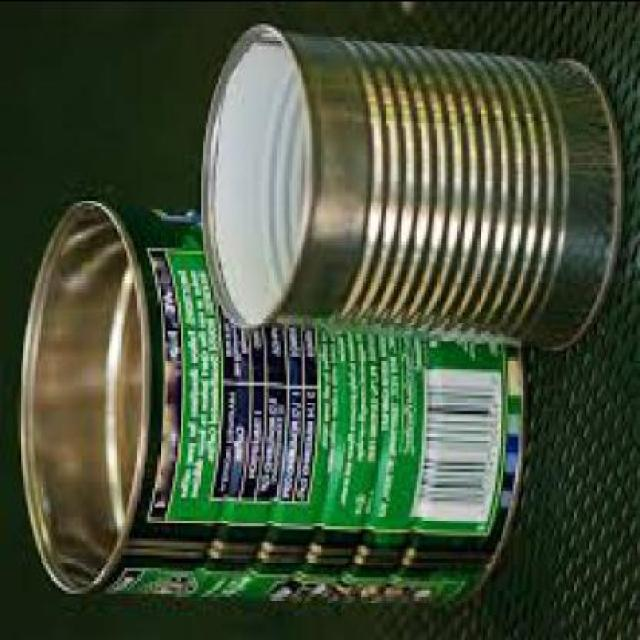METAL: (16, 190, 526, 598), (198, 22, 622, 348)
